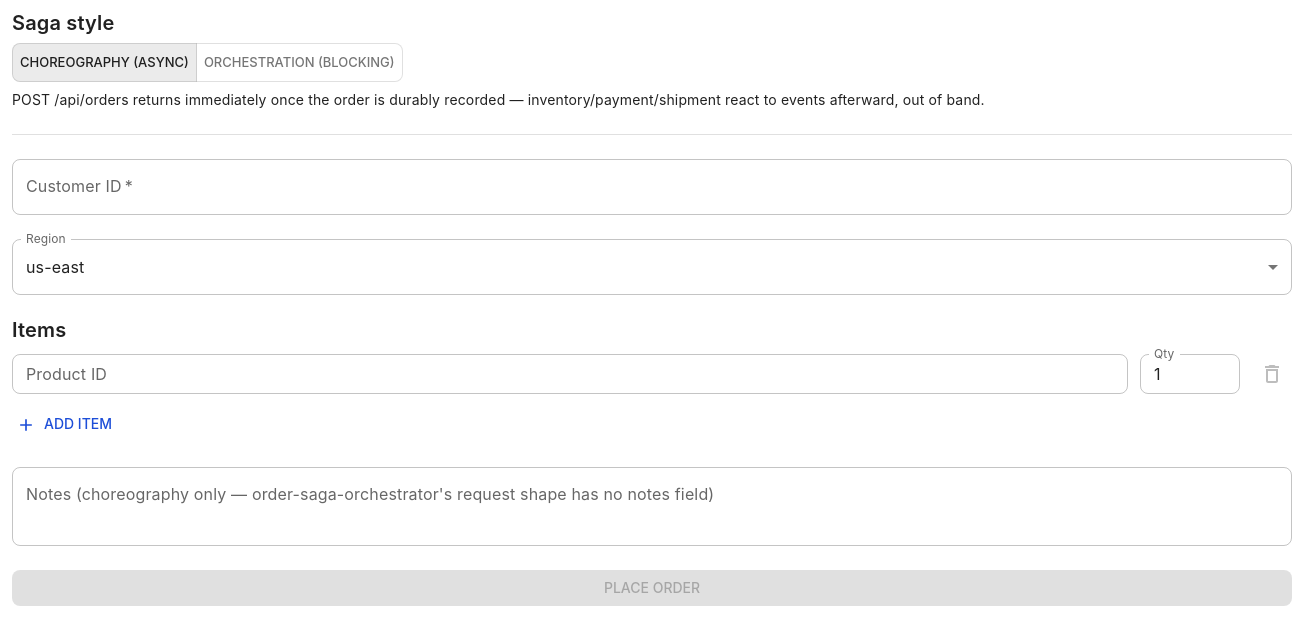
Test: PlaceOrderForm › switches to the orchestration endpoint (POST /api/saga/orders) when that style is selected
Click the button "Orchestration (blocking)" at point(299, 63), box 196,43 -> 403,82
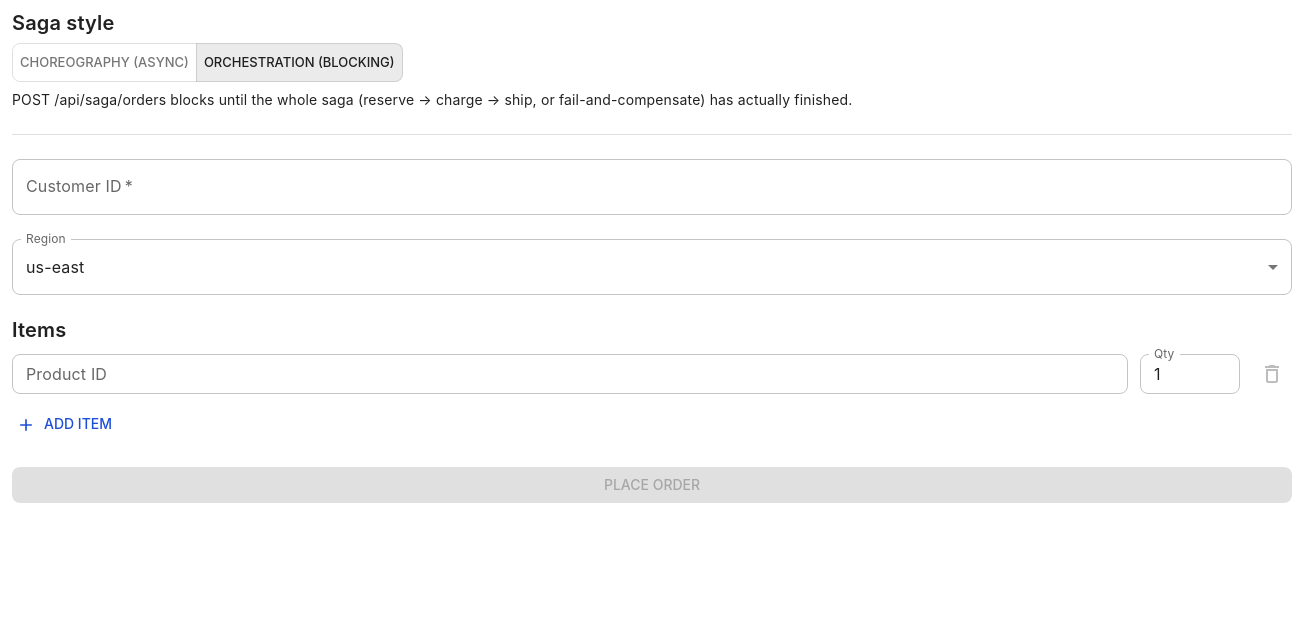
Type "cust-1" into the field labelled "Customer ID *" at point(652, 187), box 12,159 -> 1292,215
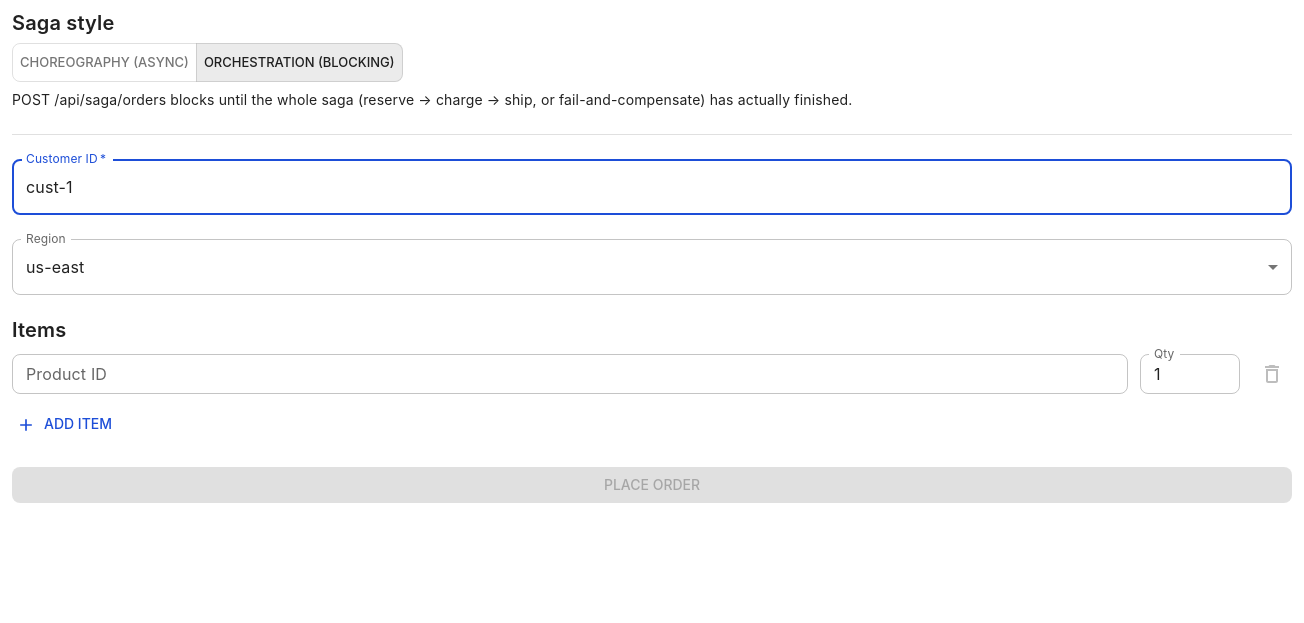
Type "sku-1" into the field labelled "Product ID" at point(570, 374), box 12,354 -> 1128,394
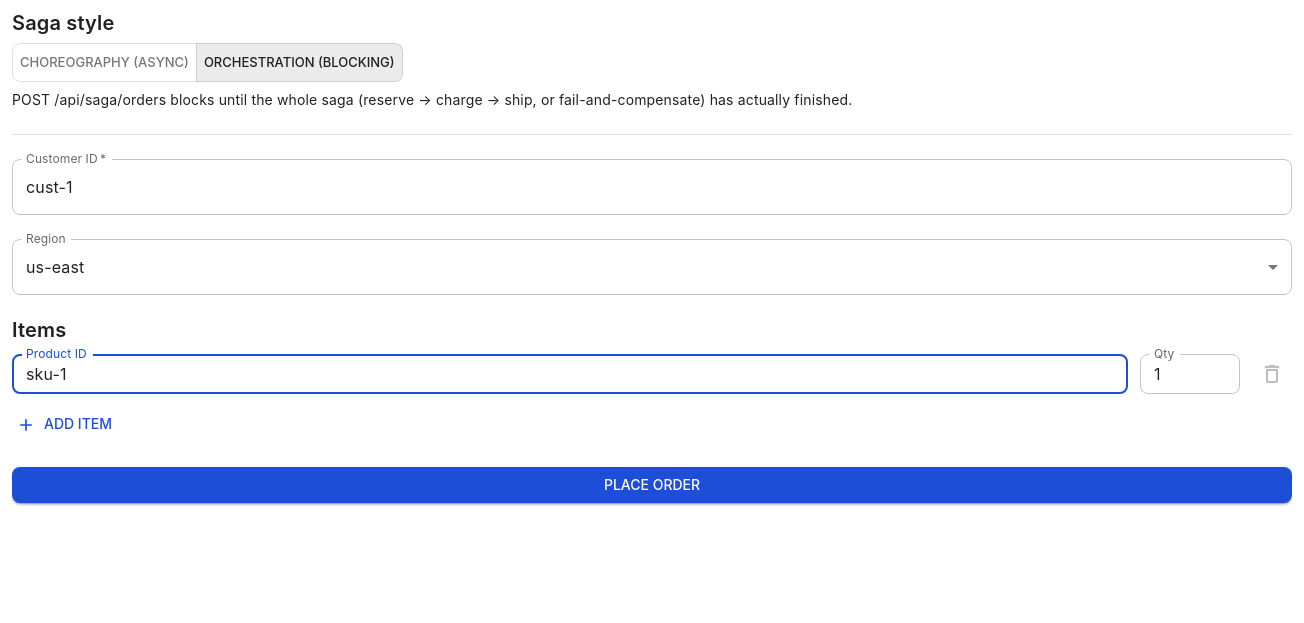
Click the button "Place order" at point(652, 485), box 12,467 -> 1292,503
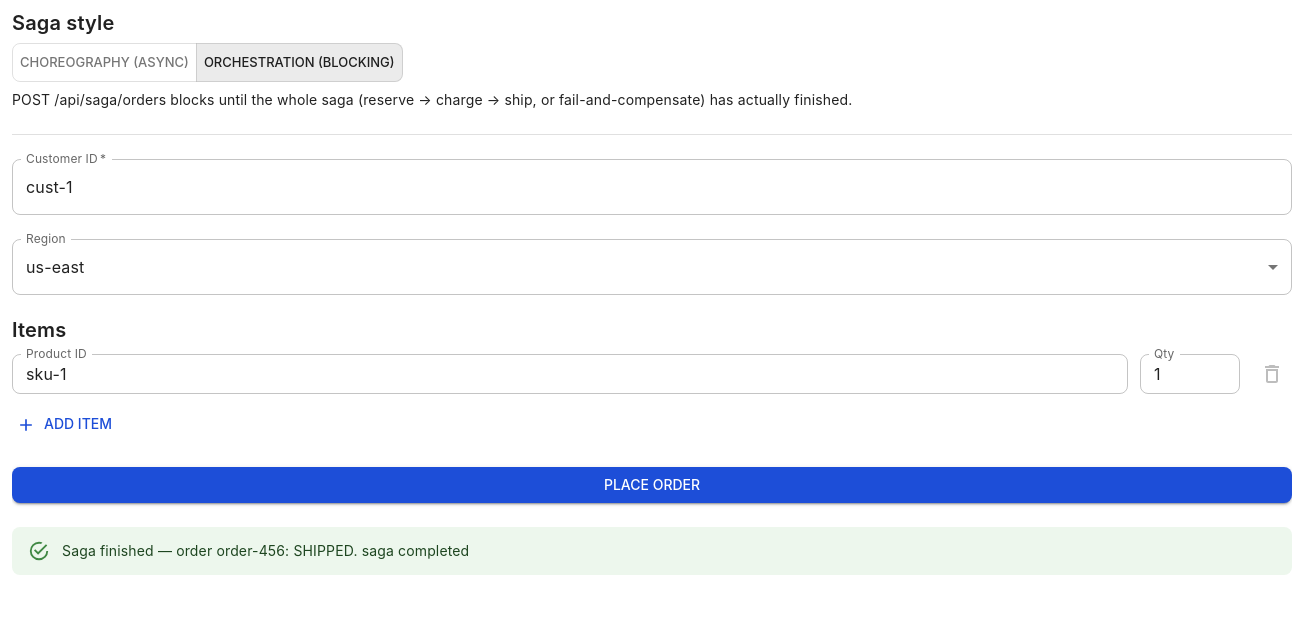
Now the text "Saga finished — order order-456: SHIPPED. saga completed" is shown, box 62,542 -> 469,559
